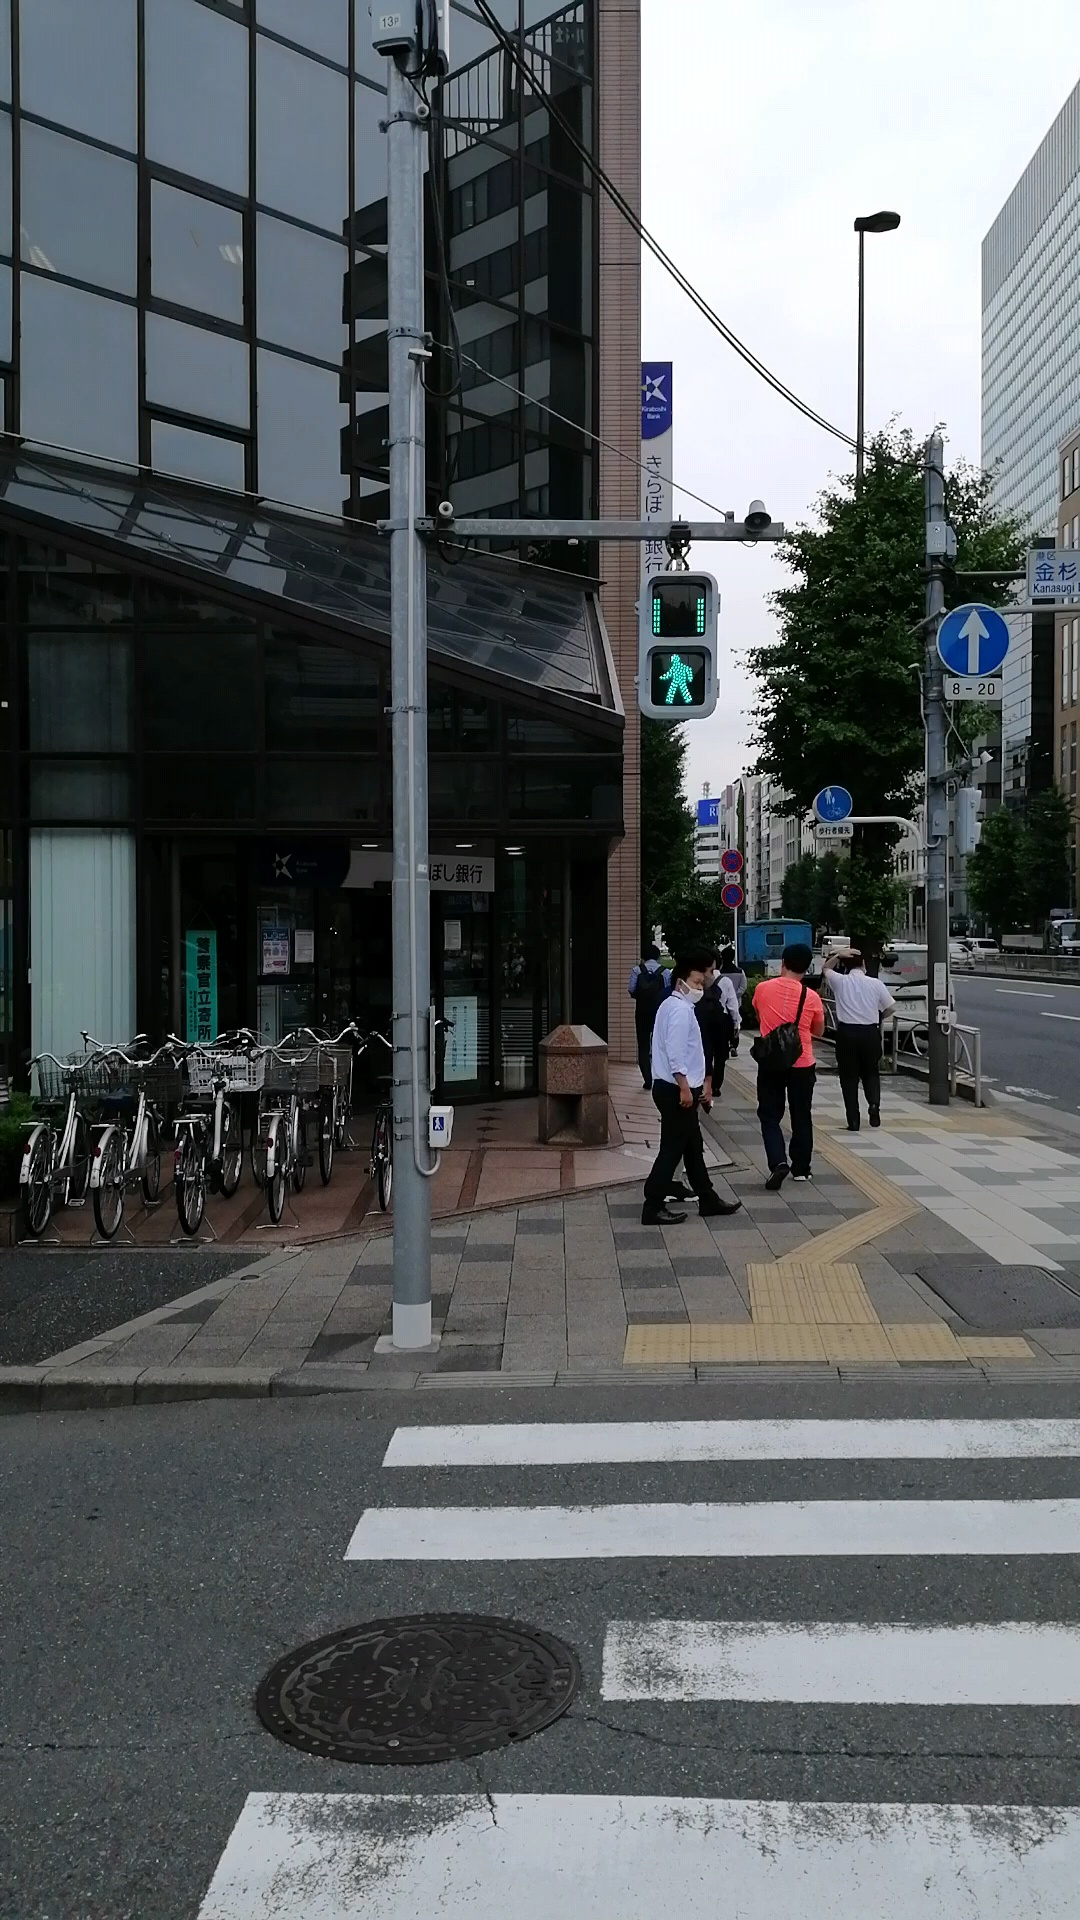green: (640, 568, 719, 717)
